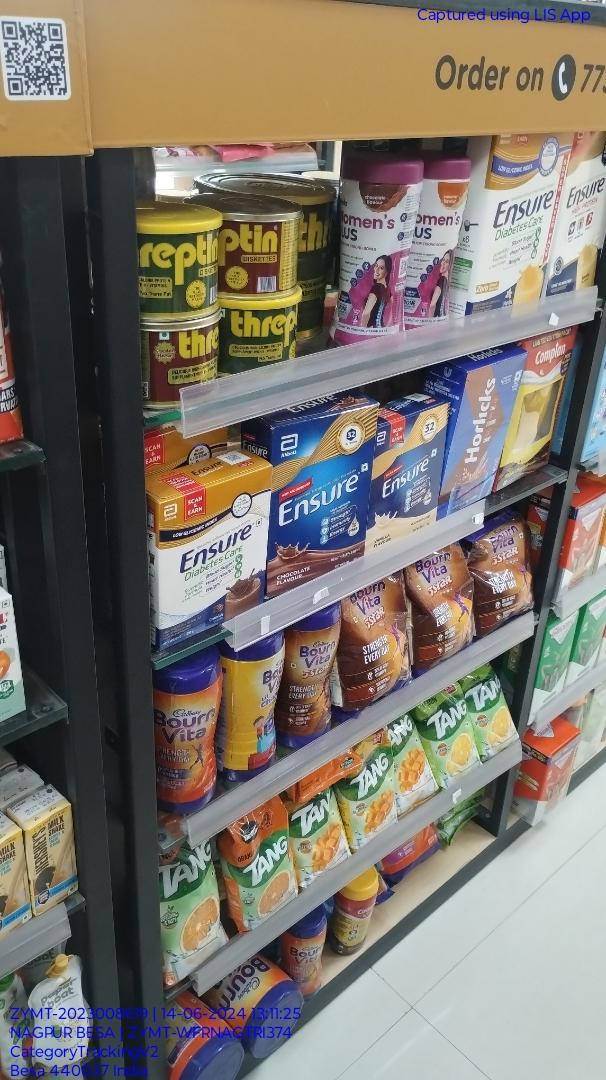BOURN_VITA_500_G_JAR: (155, 668, 220, 822)
BOURN_VITA_CHAMPS_500_G_JAR: (227, 653, 279, 775)
BOURN_VITA_FIVE_STAR_MAGIC_500_G_JAR: (286, 614, 333, 739)
BOURN_VITA_FIVE_STAR_MAGIC_500_G_POUCH: (342, 592, 403, 714), (411, 564, 474, 667), (479, 529, 532, 622)
